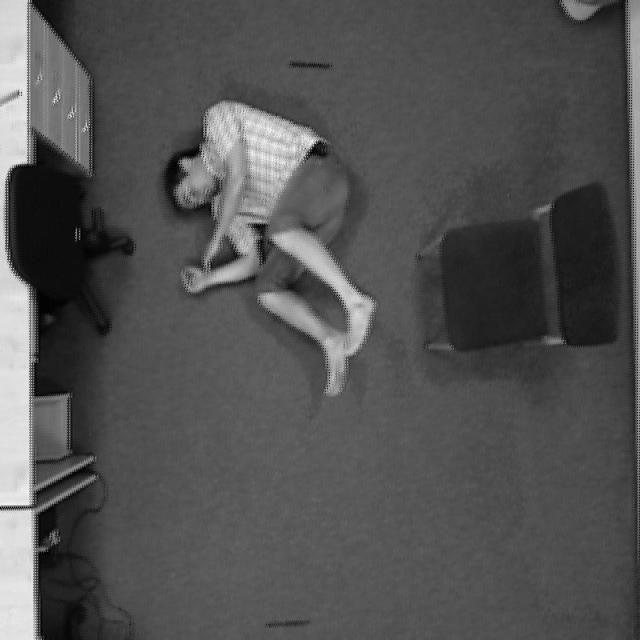lie: (167, 110, 388, 394)
